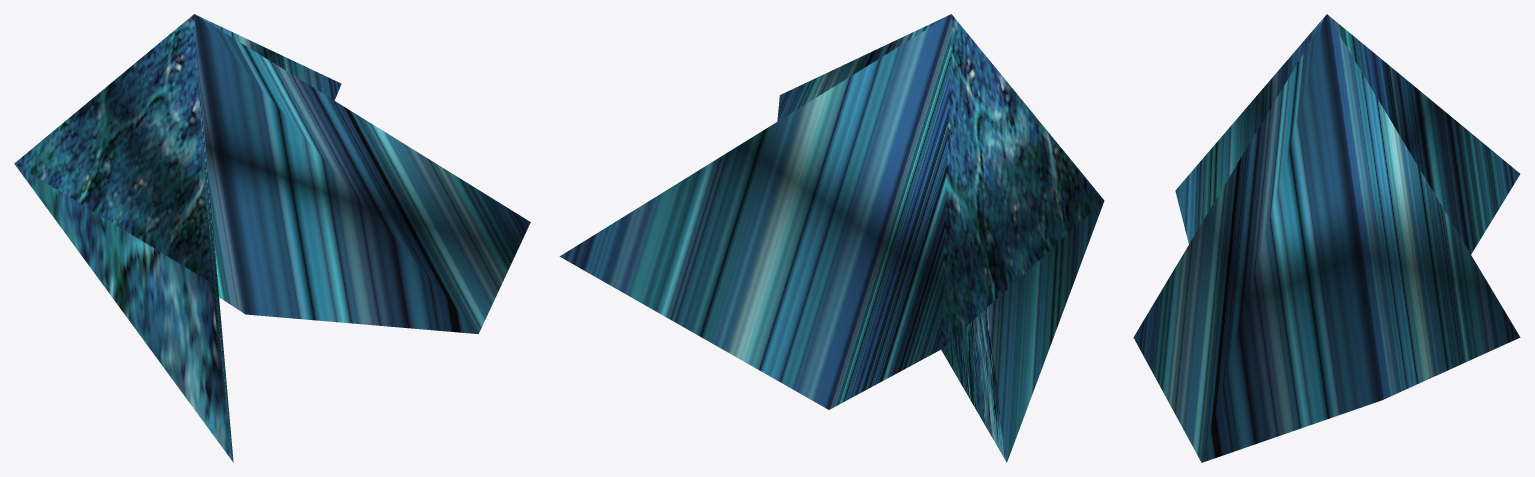
File: cef_cryoban_gernade_shard.fbx
The picture shows the model from 3 angles, left to right: view 1: azimuth 30°, elevation 25°; view 2: azimuth 150°, elevation 25°; view 3: azimuth 270°, elevation 25°; orthographic projection. The views are drawn at different scales.
Visible parts, largest first — view 1: mesh_node; view 2: mesh_node; view 3: mesh_node.
Part boxes in pixels (box(x1,y1,x2,y2)): mesh_node: box(14, 14, 530, 462); mesh_node: box(559, 14, 1104, 462); mesh_node: box(1133, 14, 1520, 462).
Bounding box in the file's own units: 0.384 × 0.4662 × 0.384.
1 material, 1 textured.
